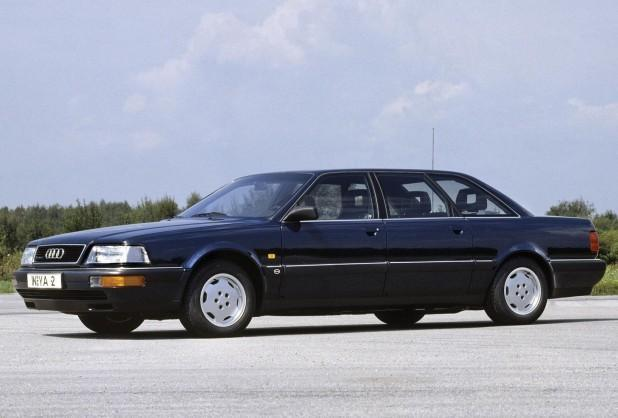Sedan: (11, 166, 606, 336)
